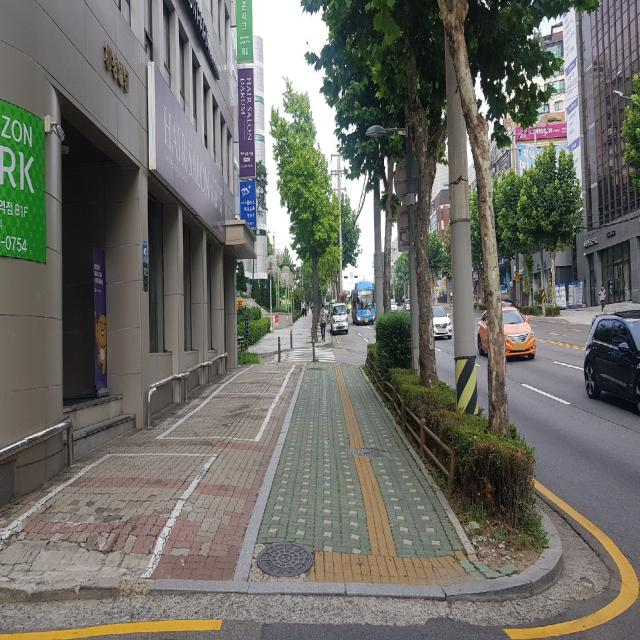횡단보도: (268, 346, 336, 364)
